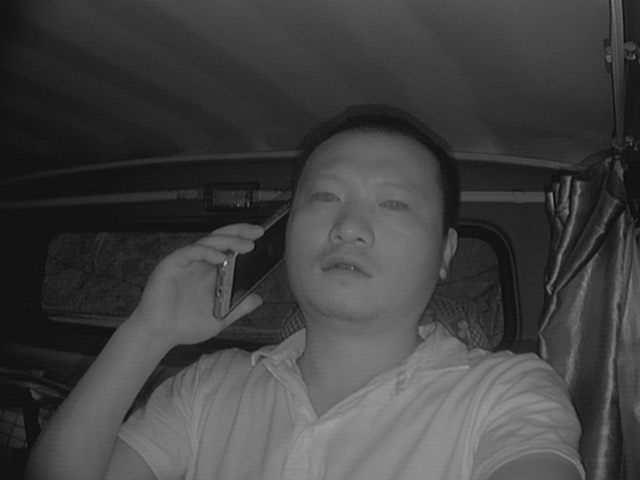hand: (143, 220, 264, 348)
